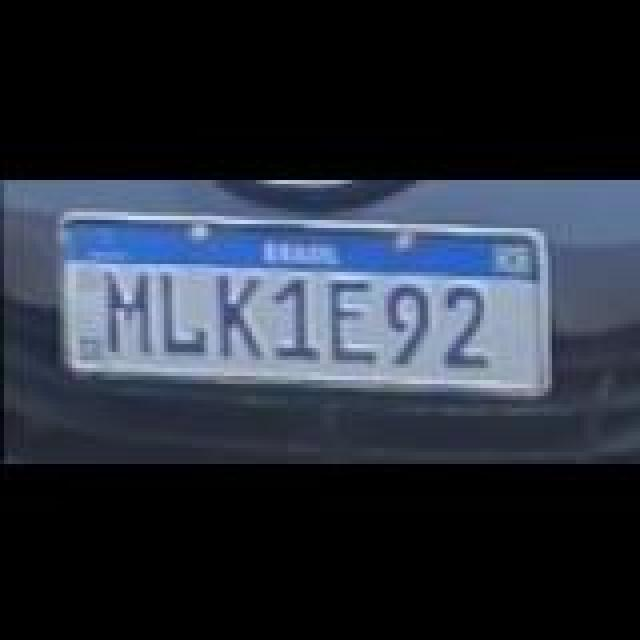1: (268, 274, 328, 358)
2: (440, 282, 500, 366)
9: (382, 280, 438, 360)
E: (324, 278, 384, 362)
K: (212, 268, 272, 356)
L: (156, 268, 216, 356)
M: (98, 268, 162, 356)
